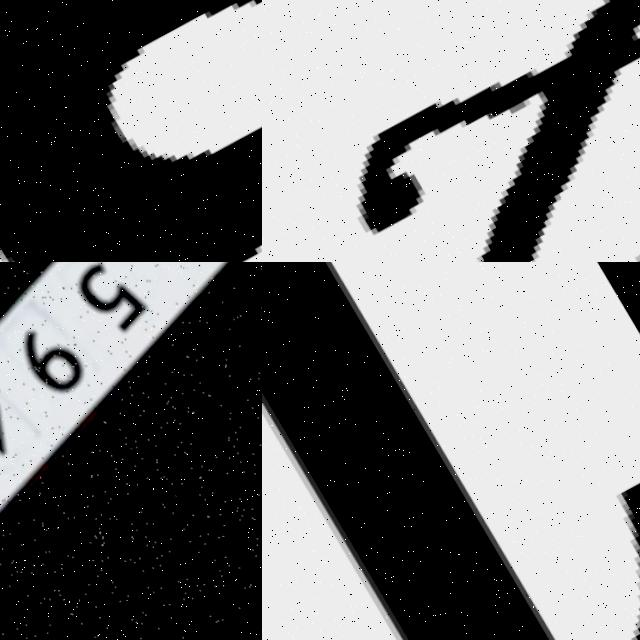4: (0, 364, 44, 487)
5: (0, 0, 262, 262), (41, 262, 174, 364)
6: (98, 262, 243, 304)
9: (0, 290, 114, 430)
T: (262, 262, 640, 640)
Z: (262, 0, 640, 262)
